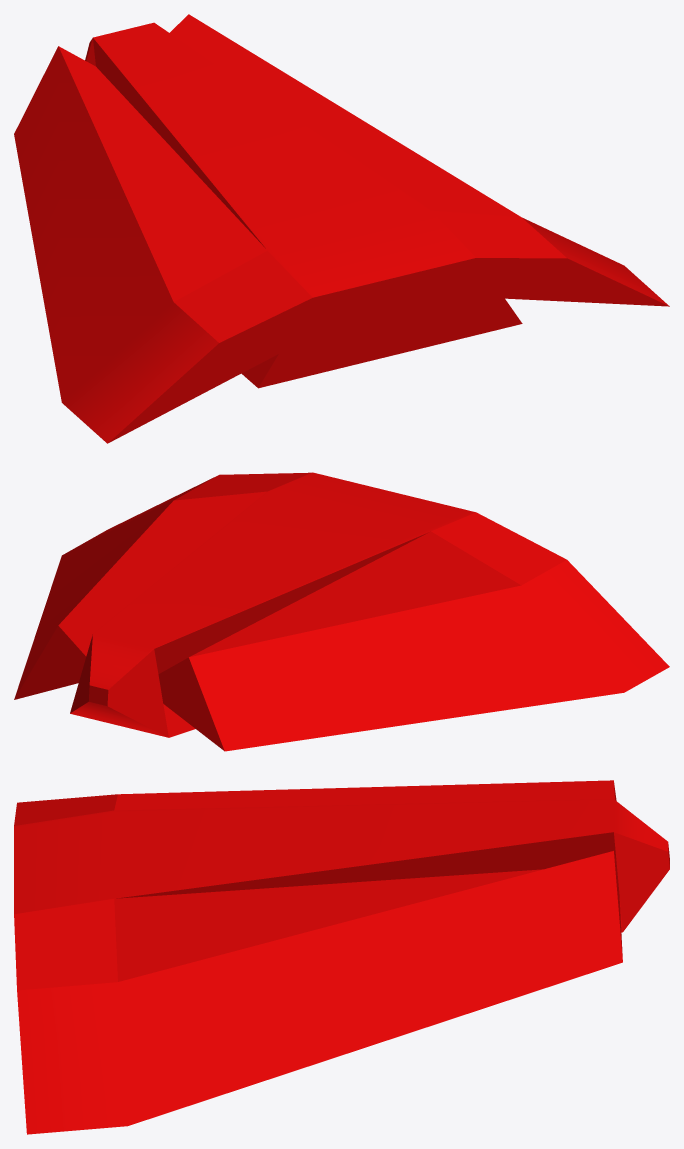
The model's file is SpaceShip1.fbx.
3 renders of one model, top to bottom at view 1: azimuth 30°, elevation 25°; view 2: azimuth 150°, elevation 25°; view 3: azimuth 270°, elevation 25°, orthographic. The views are drawn at different scales.
Visible parts, largest first — view 1: pCube1; view 2: pCube1; view 3: pCube1.
Boxes of the visible parts, bbox=[...] form: pCube1: bbox=[14, 14, 669, 443]; pCube1: bbox=[14, 472, 669, 751]; pCube1: bbox=[14, 780, 669, 1134].
Size of the model in its own units: 7.21 by 1.85 by 6.58.
